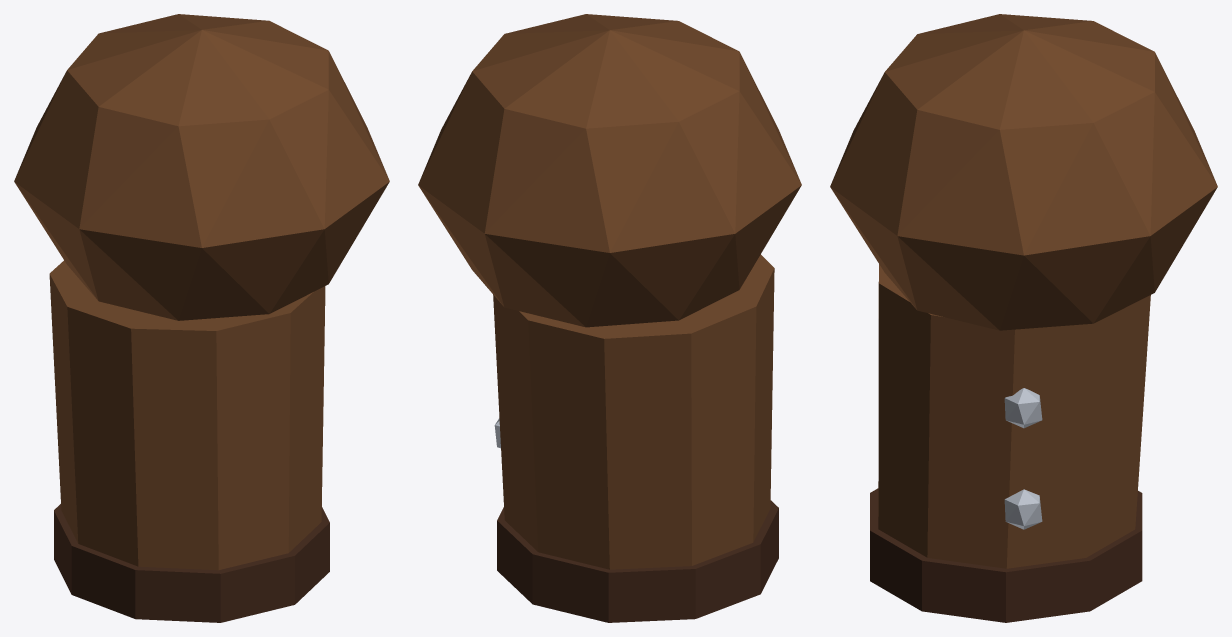
File: gear_studded_body_arm_l.glb
The picture shows the model from 3 angles, left to right: view 1: azimuth 30°, elevation 25°; view 2: azimuth 150°, elevation 25°; view 3: azimuth 270°, elevation 25°; orthographic projection. The views are drawn at different scales.
Visible parts, largest first — view 1: gear_studded_body_arm_l; view 2: gear_studded_body_arm_l; view 3: gear_studded_body_arm_l.
Part boxes in pixels (x1=…): gear_studded_body_arm_l: x1=14, y1=14, x2=389, y2=622; gear_studded_body_arm_l: x1=418, y1=14, x2=801, y2=622; gear_studded_body_arm_l: x1=830, y1=14, x2=1217, y2=622.
Size of the model in its own units: 0.1707 by 0.267 by 0.1733.
